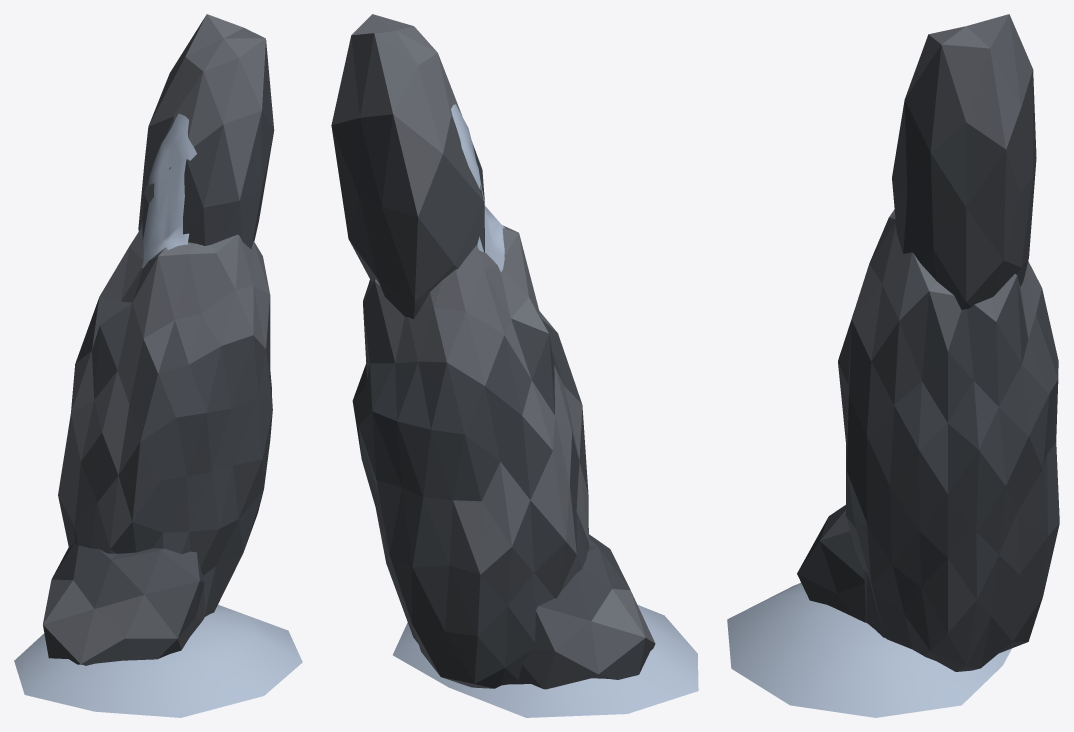
The model's file is crest_spire.glb.
The picture shows the model from 3 angles, left to right: view 1: azimuth 30°, elevation 25°; view 2: azimuth 150°, elevation 25°; view 3: azimuth 270°, elevation 25°; orthographic projection. The views are drawn at different scales.
Visible parts, largest first — view 1: Rock; view 2: Rock; view 3: Rock.
Boxes of the visible parts, x1=… form: Rock: x1=14, y1=14, x2=302, y2=717; Rock: x1=331, y1=14, x2=698, y2=717; Rock: x1=727, y1=14, x2=1059, y2=717.
Size of the model in its own units: 2.18 by 4.34 by 1.9.
